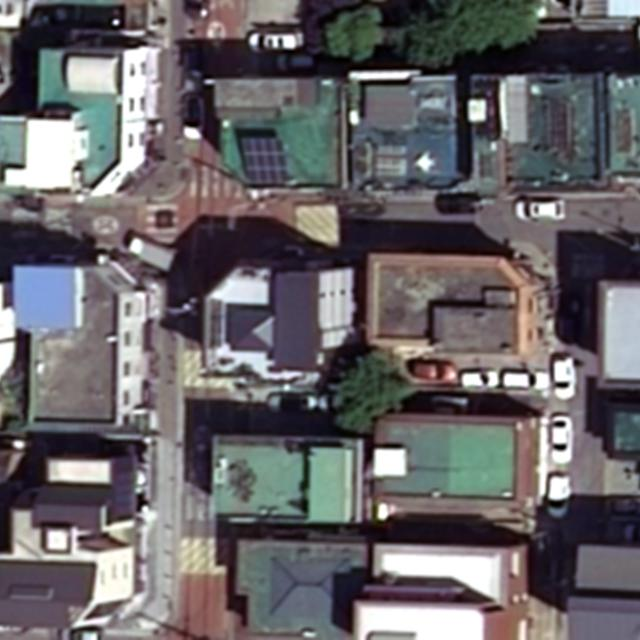panel: (238, 137, 290, 185)
